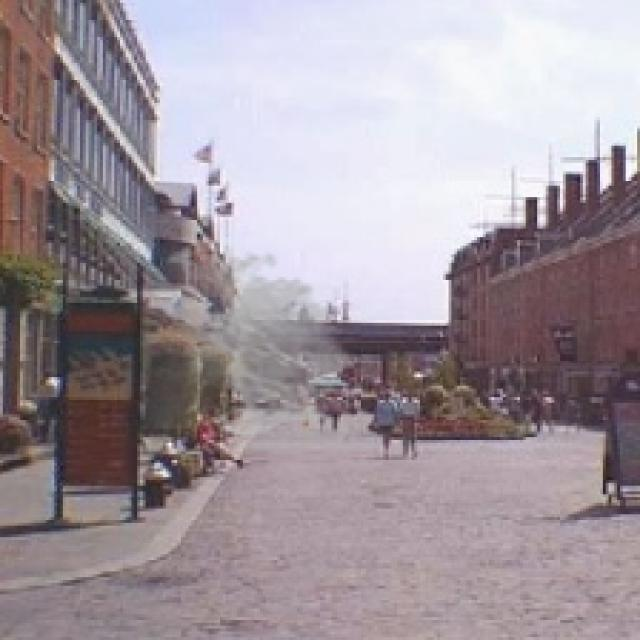smoke: (140, 240, 357, 443)
